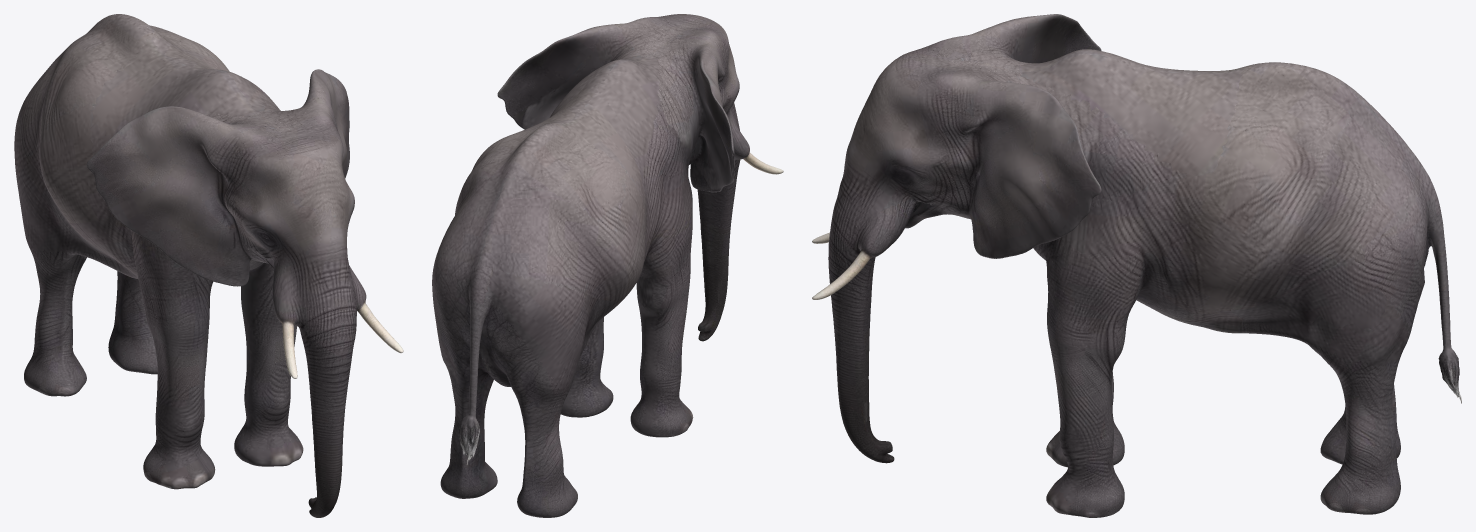
The model's file is elephant.glb.
3 renders of one model, left to right at view 1: azimuth 30°, elevation 25°; view 2: azimuth 150°, elevation 25°; view 3: azimuth 270°, elevation 25°, orthographic. The views are drawn at different scales.
Size of the model in its own units: 0.9637 by 1.38 by 1.89.
1 material, 1 textured.
